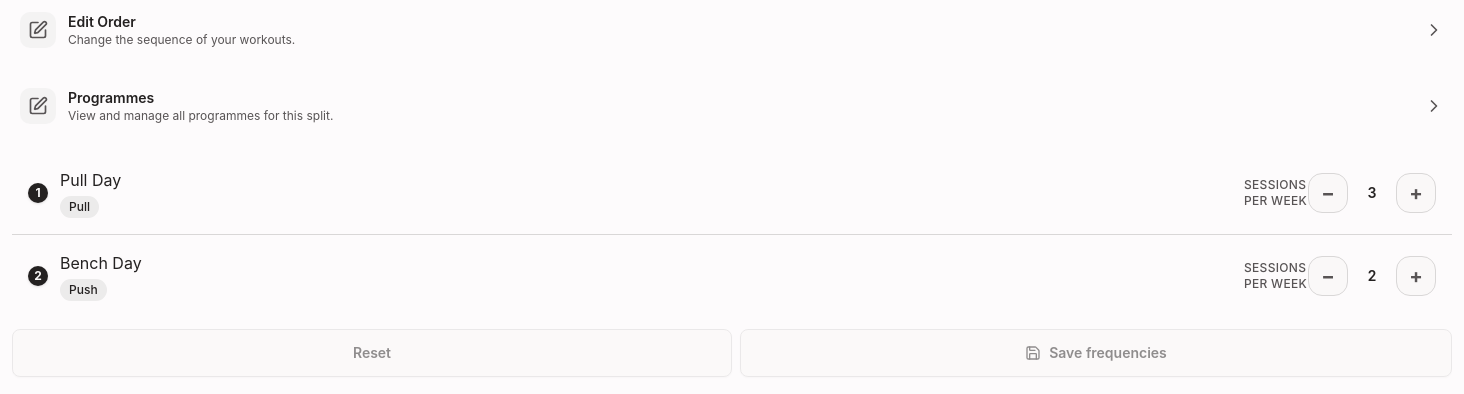
SplitOverviewPanel › hydrates split data before rendering and keeps the frequency editor interactive
Expected: the text "Pull Day" is shown, x1=60 y1=168 x2=121 y2=192
Expected: the text "Bench Day" is shown, x1=60 y1=251 x2=142 y2=275
Press the mouse on the button named "increment" at (1416, 193), box x1=1396 y1=173 x2=1436 y2=213
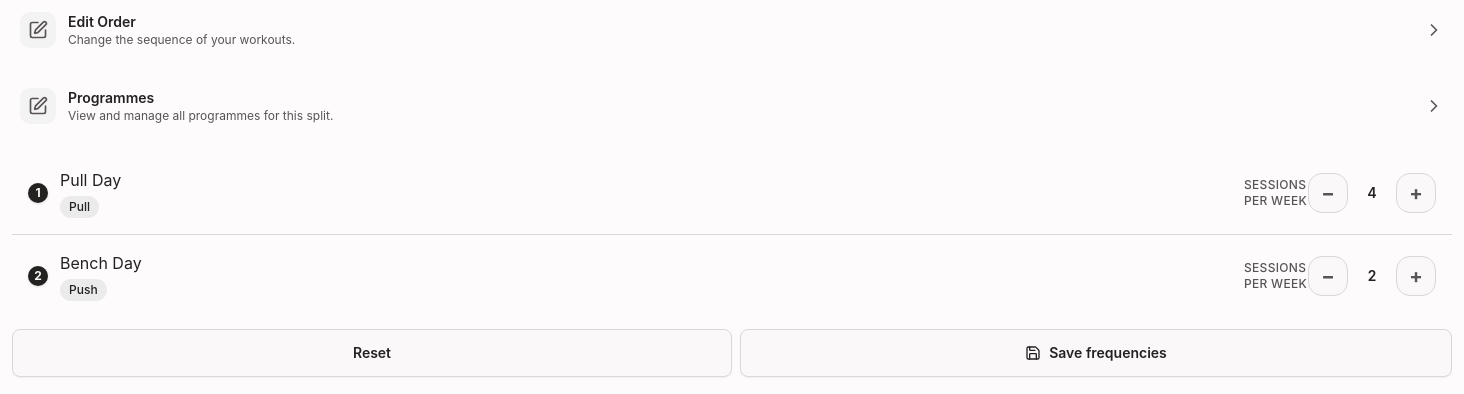
Result: the button "Save frequencies" is enabled at x1=740 y1=329 x2=1452 y2=377
